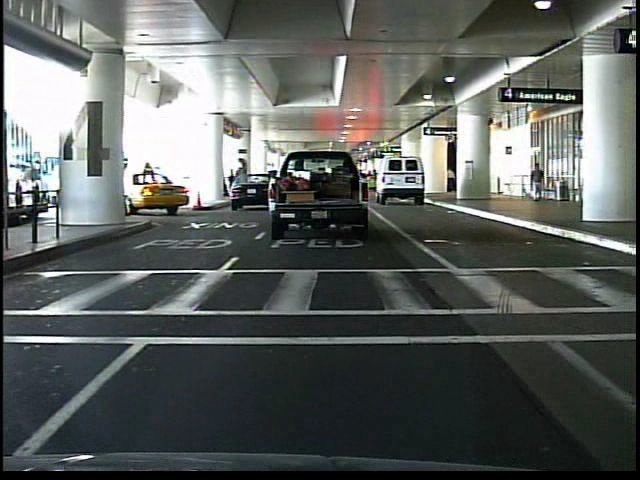person: (527, 158, 548, 208), (443, 165, 457, 198)
